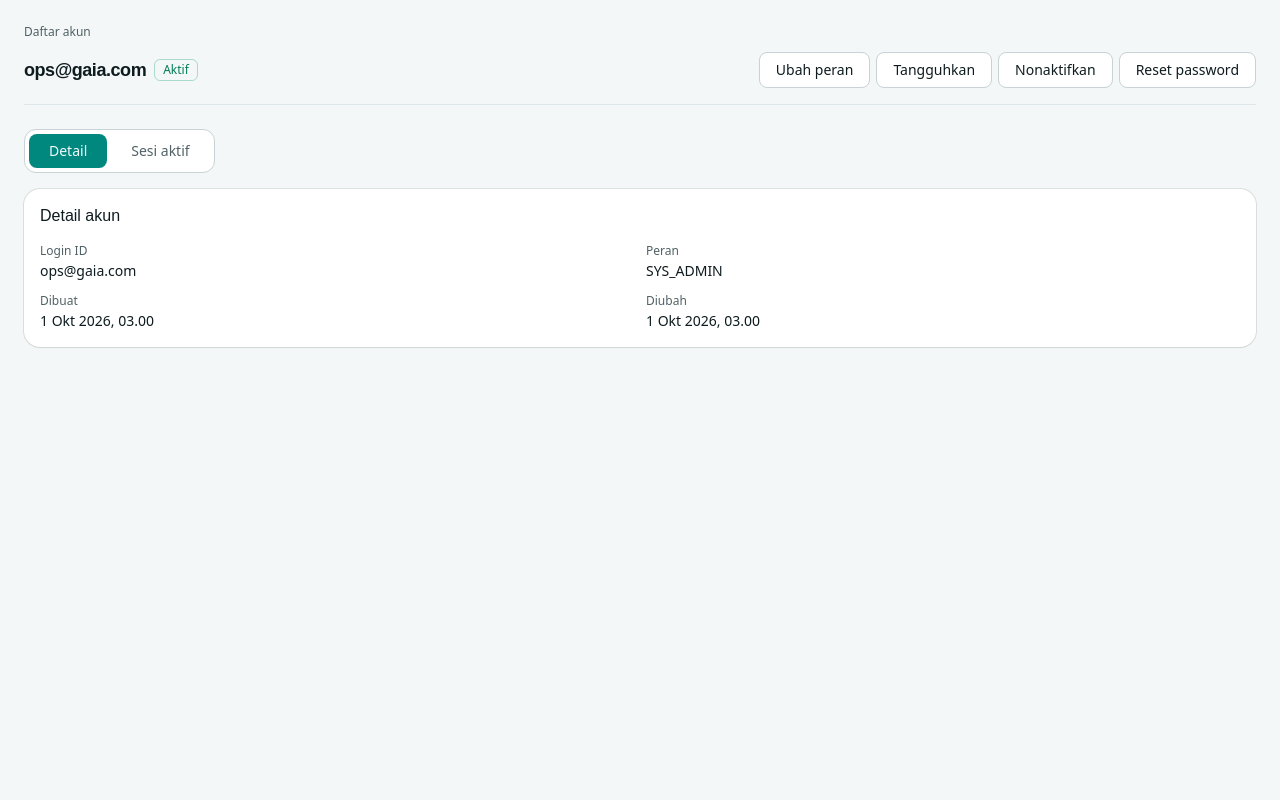
Test: force logout of another account (D4.10, D13.1) › 403 PLATFORM_ROLE_PROTECTED shows the fixed copy with the reference id, never the server text
Expected: the heading "ops@gaia.com" is shown, [24,56,146,84]
Click the tab "Sesi aktif" at (160, 151), box [111,134,210,168]
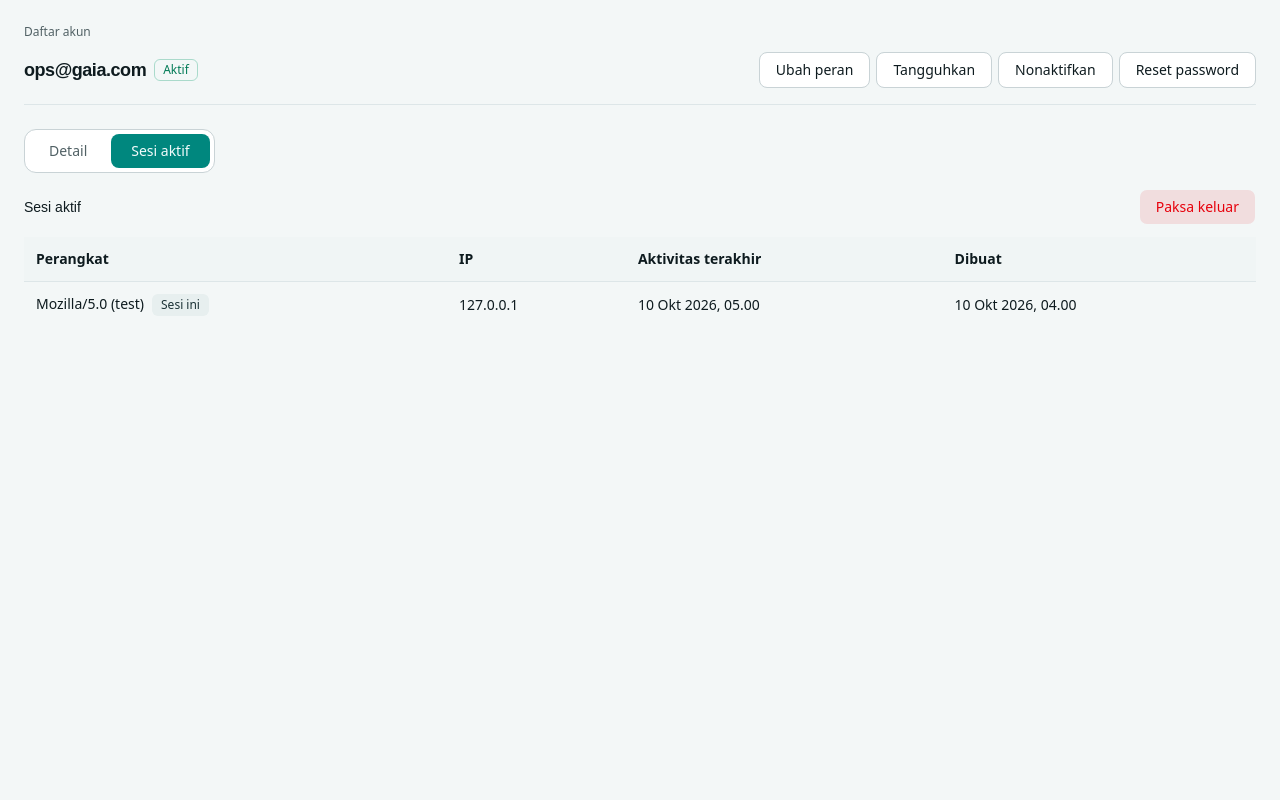
Expected: the table named "Sesi aktif akun" is shown, [24,237,1256,328]
Click the button "Paksa keluar" at (1197, 207), box [1139,189,1256,225]
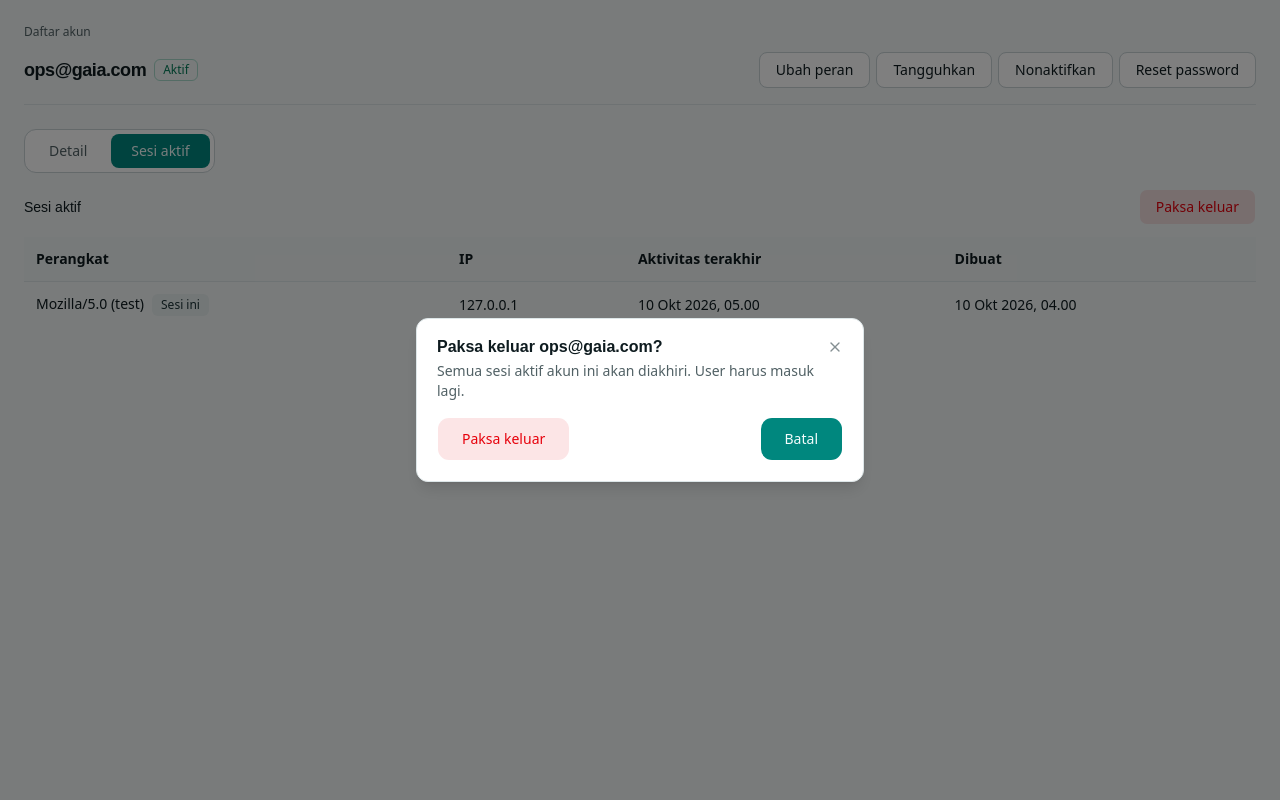
Click the button "Paksa keluar" at (504, 439), box [437,417,570,461]
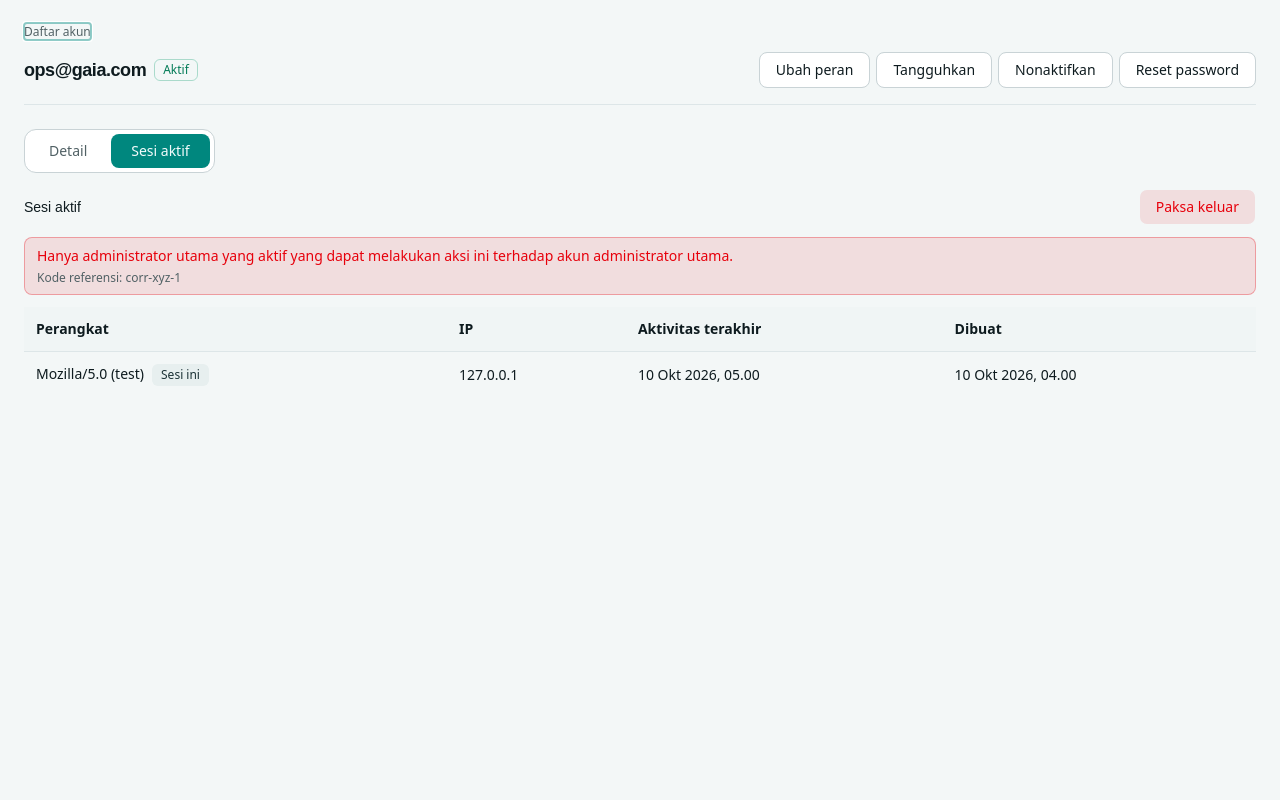
Expected: the message does not show "SERVER TEXT MUST NOT SHOW", [24,237,1256,295]
Expected: the message shows "Hanya administrator utama yang aktif yang dapat melakukan aksi ini terhadap akun administrator utama.", [37,246,733,265]
Expected: the message shows "Kode referensi: corr-xyz-1", [37,269,181,286]
